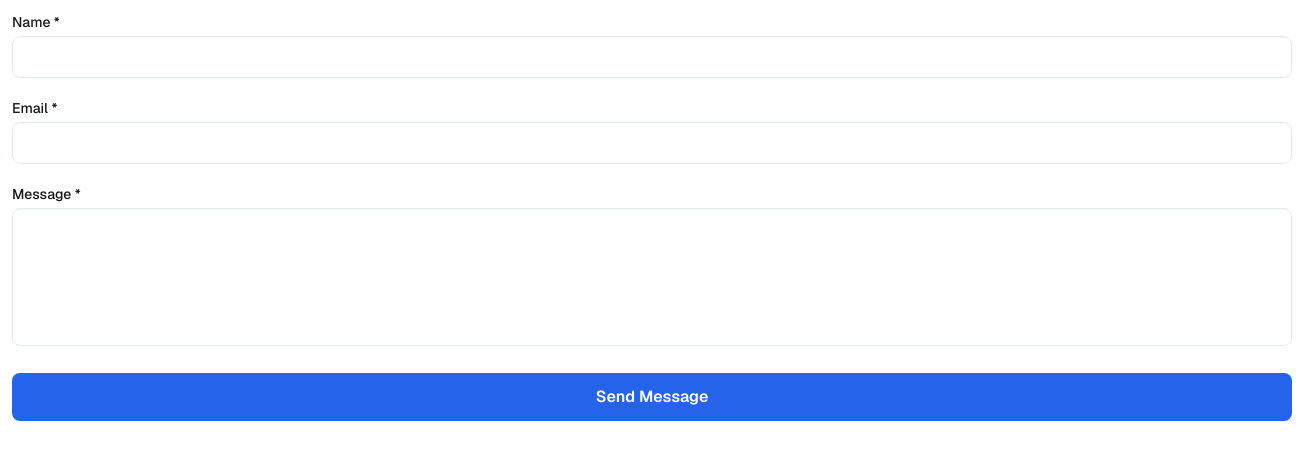
Test: ContactForm validation › shows error when name is missing
The width and height of the screenshot is (1304, 459).
Step 1. Type "test@example.com" into the field labelled "Email *" → (652, 143), box [12,122,1292,164]
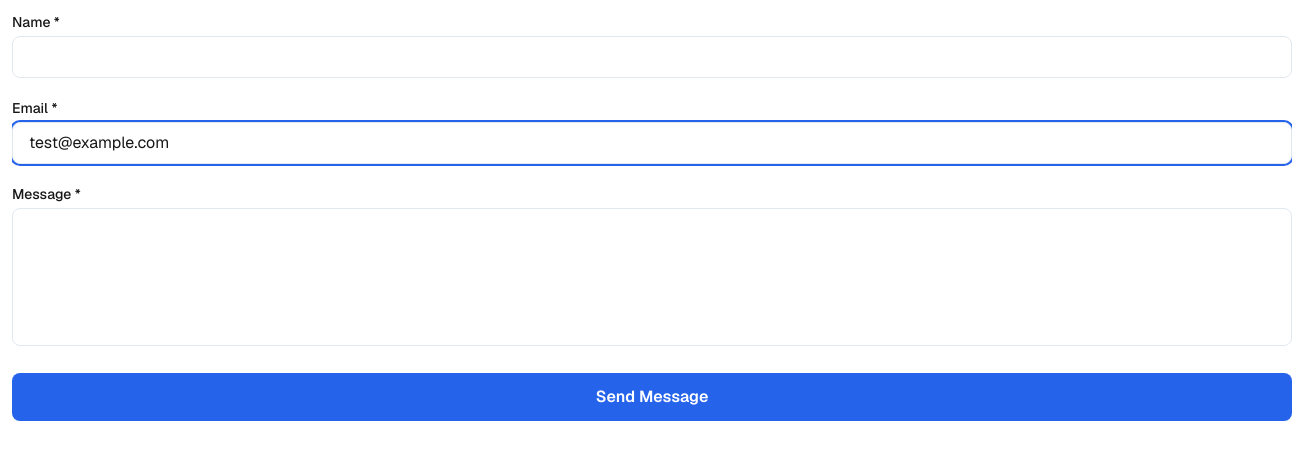
Step 2. Type "This is a valid message for testing." into the text box labelled "Message *" → (652, 277), box [12,208,1292,346]
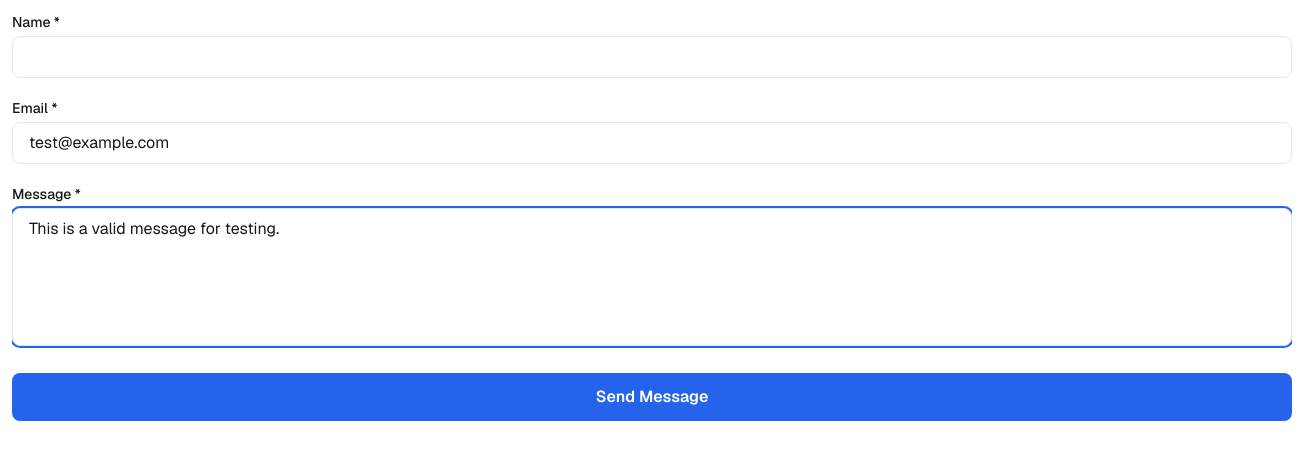
Step 3. Click the button "Send Message" → (652, 397), box [12,373,1292,421]
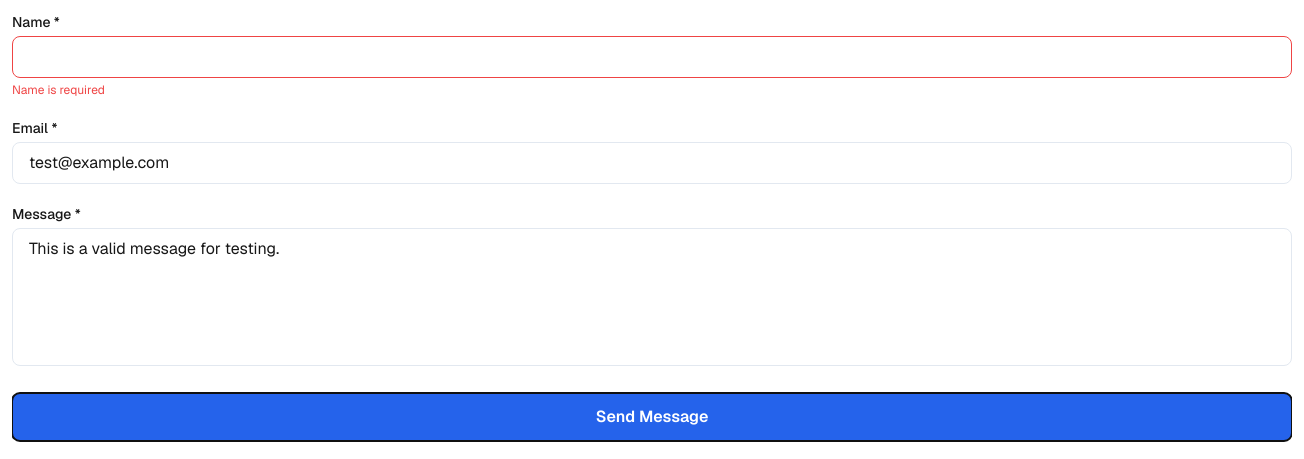
Expected: the text "Name is required" is shown, [12,82,105,98]
